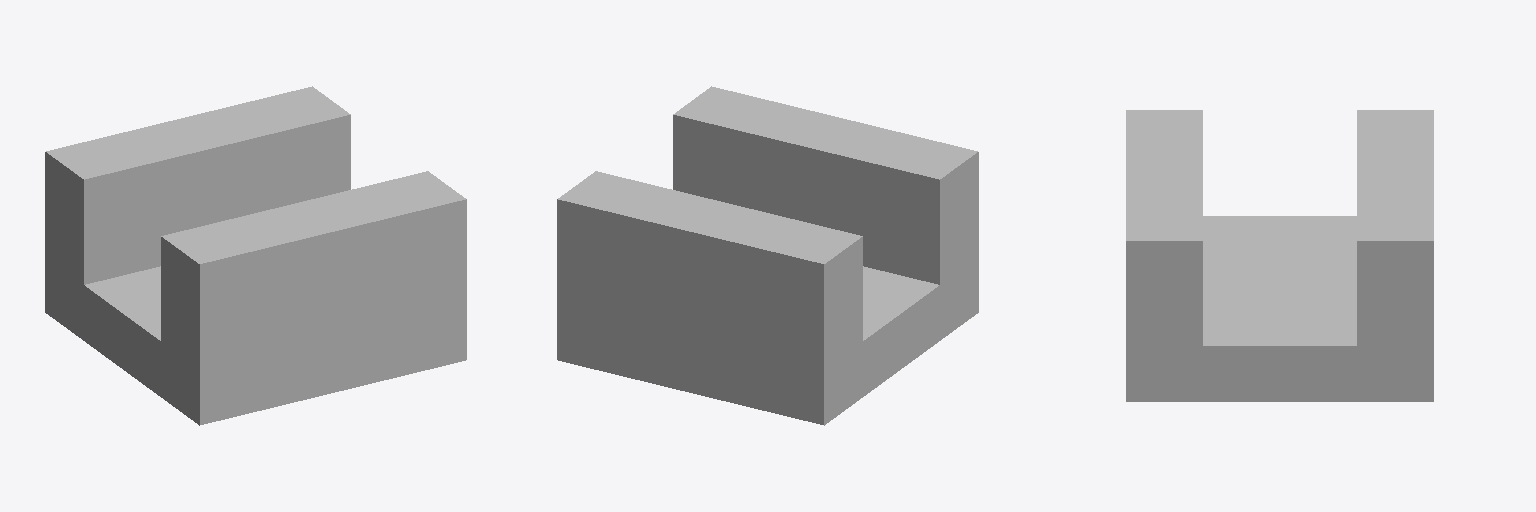
Rendered from tile039.obj.
The picture shows the model from 3 angles: view 1: azimuth 30°, elevation 25°; view 2: azimuth 150°, elevation 25°; view 3: azimuth 270°, elevation 25°; orthographic projection.
Parts seen in each view (by area): view 1: tile039; view 2: tile039; view 3: tile039.
Part boxes in pixels (bbox=[...]): tile039: bbox=[45, 86, 466, 425]; tile039: bbox=[557, 86, 978, 425]; tile039: bbox=[1126, 110, 1433, 401].
Bounding box in the file's own units: 1 × 0.5767 × 1.